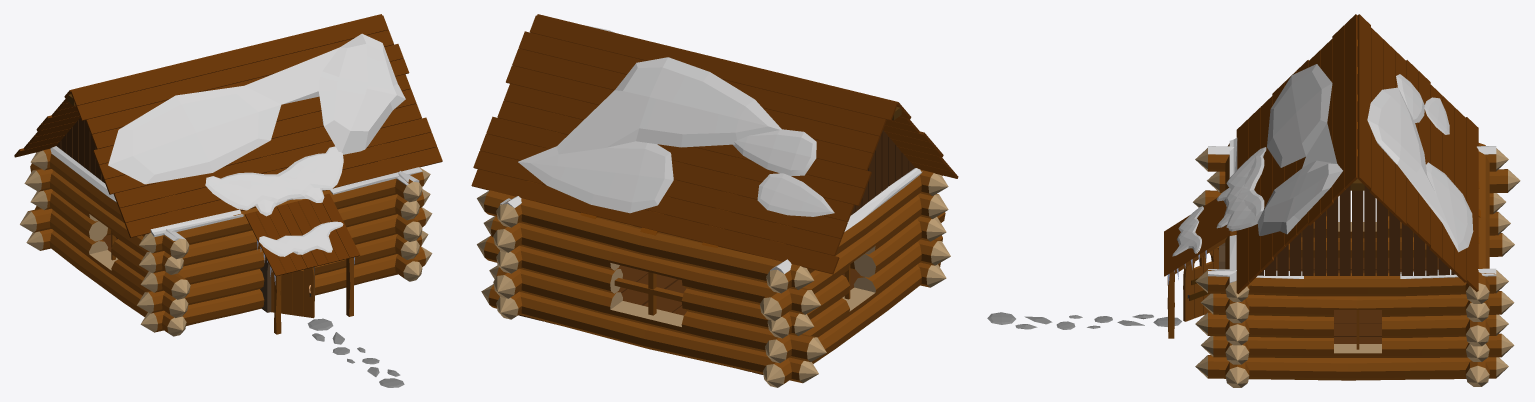
File: House_06_Merged.fbx
3 views of the same model, side by side, from view 1: azimuth 30°, elevation 25°; view 2: azimuth 150°, elevation 25°; view 3: azimuth 270°, elevation 25° (orthographic). The views are drawn at different scales.
Visible parts, largest first — view 1: House_06_Merged_fix; view 2: House_06_Merged_fix; view 3: House_06_Merged_fix.
Part boxes in pixels (x1,y1,x2,y2): House_06_Merged_fix: (14,14,442,387); House_06_Merged_fix: (471,14,958,387); House_06_Merged_fix: (987,14,1520,387).
Size of the model in its own units: 582 by 373 by 794.
